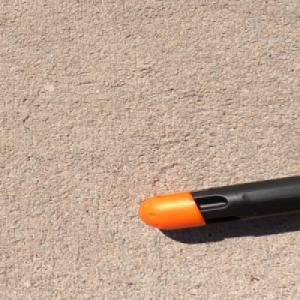PlasticPart: (134, 173, 300, 230)
